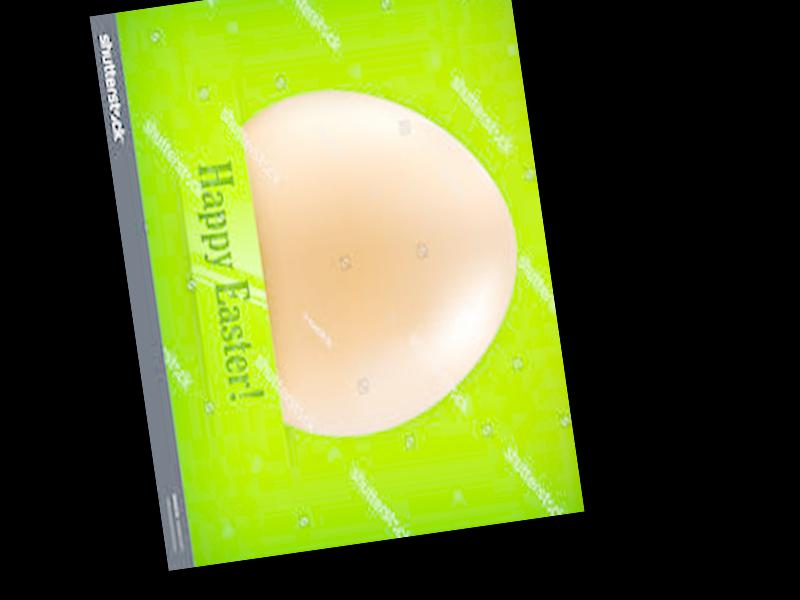Eggs: (238, 68, 540, 444)
